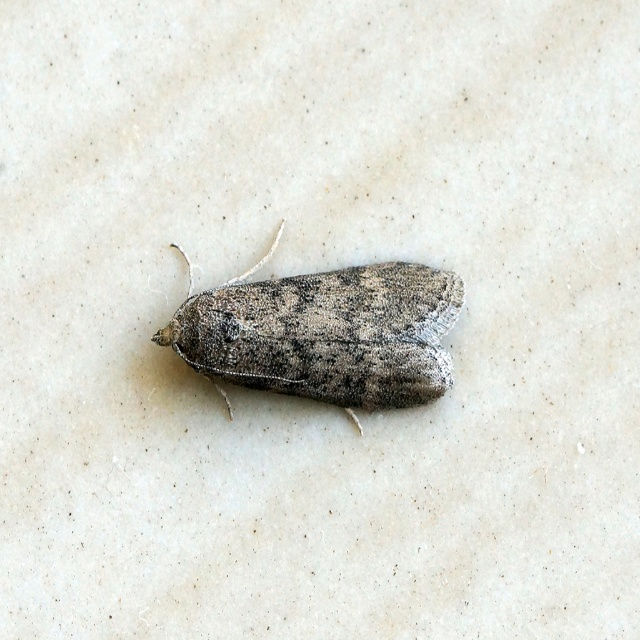Moths and butterflies: (145, 213, 470, 446)
